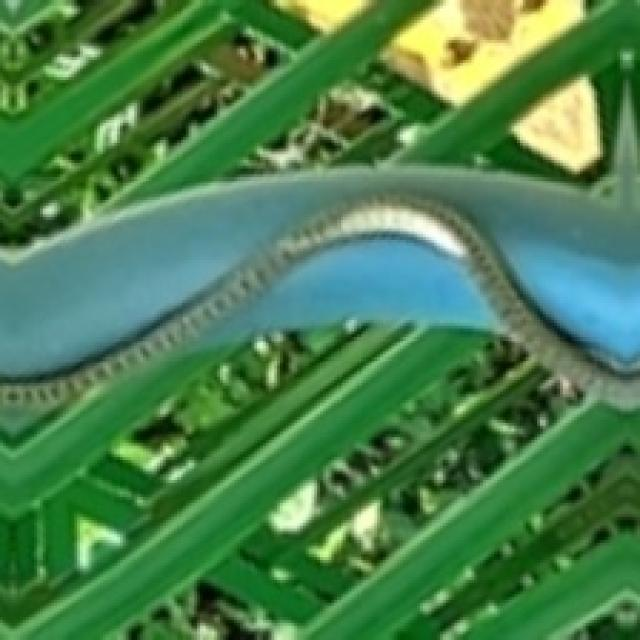paradise tree snake: (0, 166, 637, 434)
